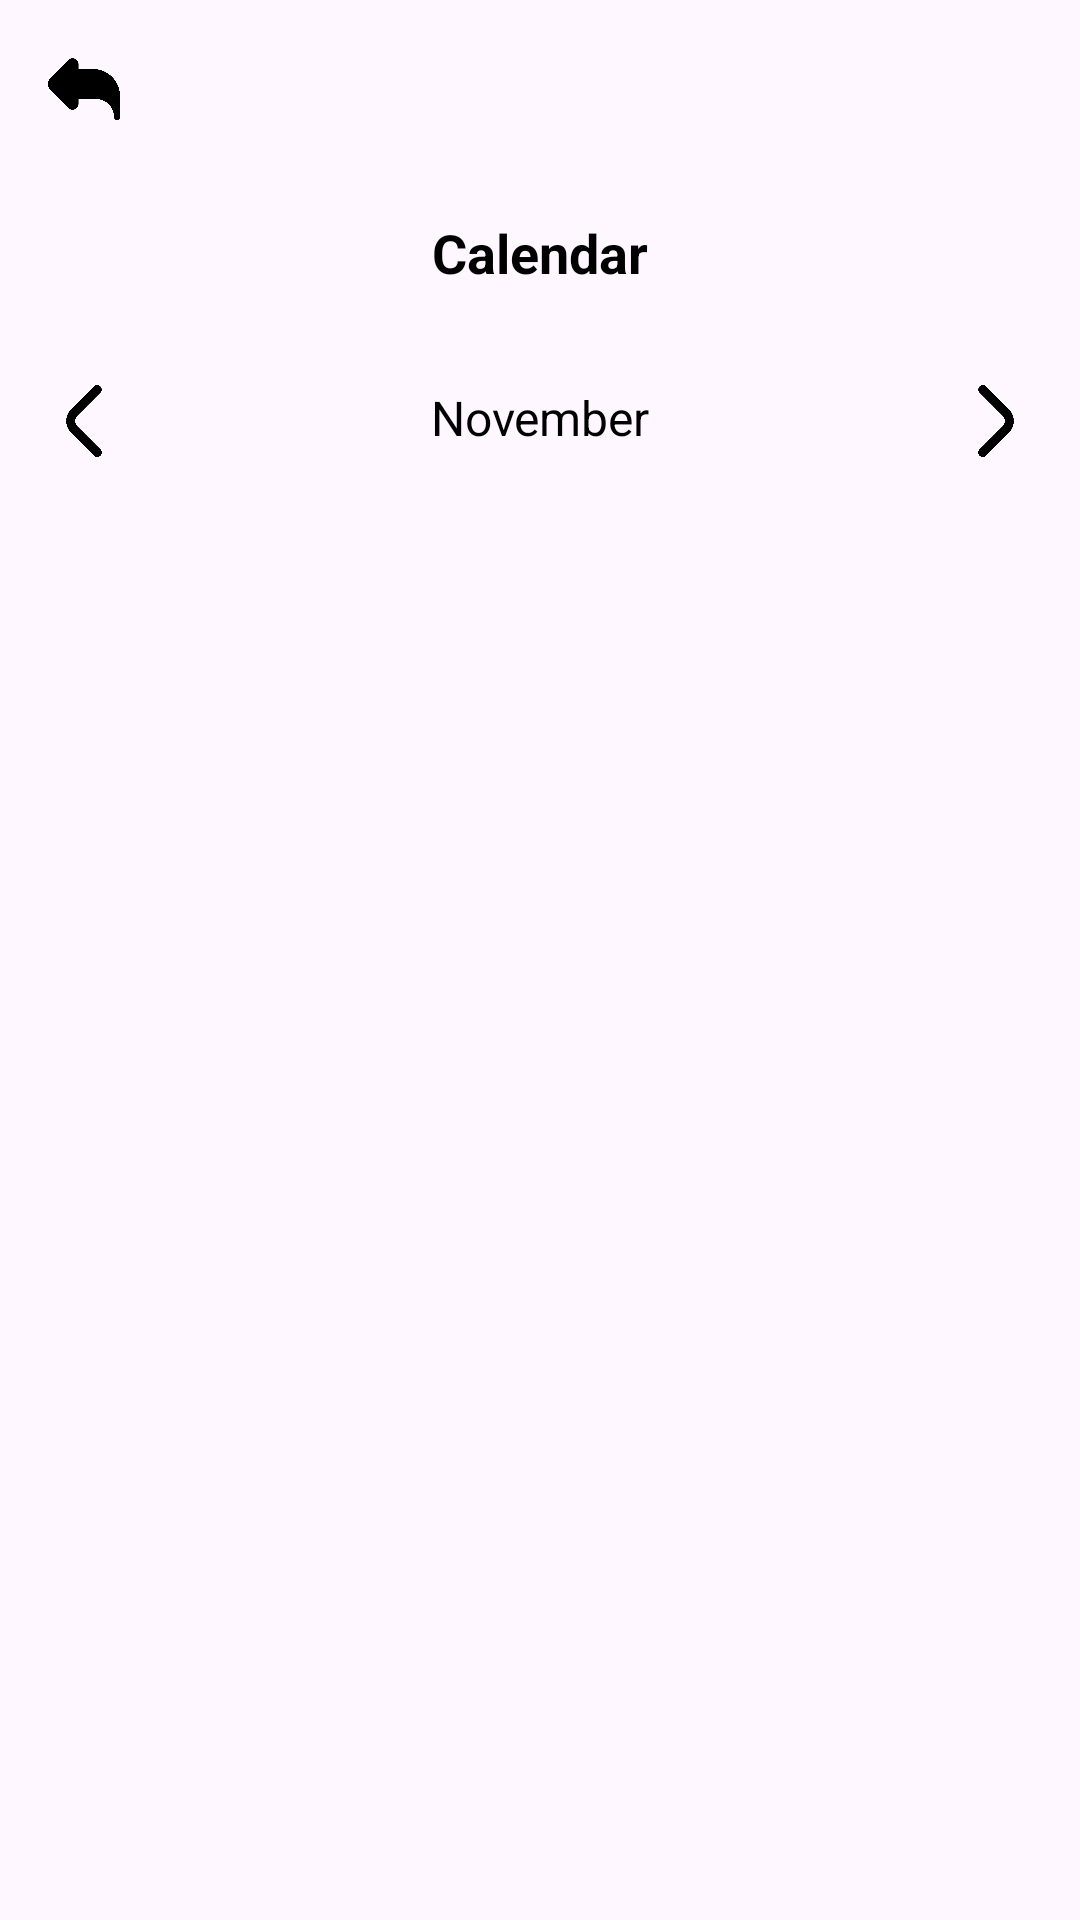

Screen size 1080×1920. Icon name, then its center in pixels as point (x, y):
angle: point (996, 421)
angle left: point (84, 421)
back: point (84, 89)
